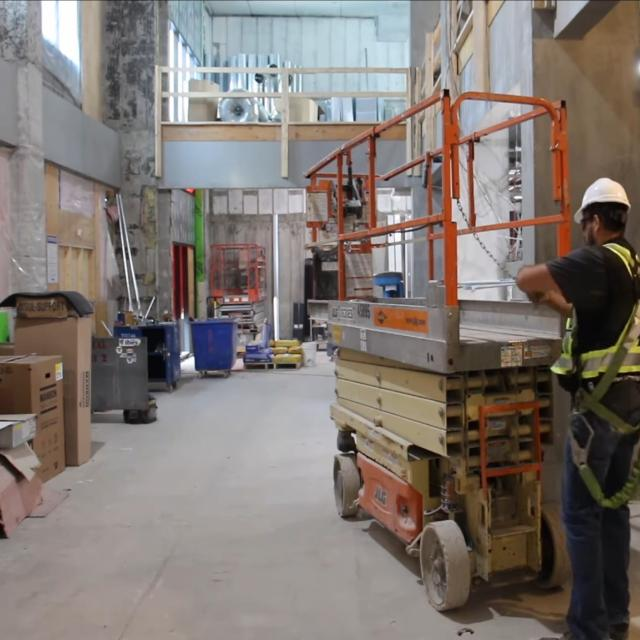2m above platform: (291, 92, 568, 607)
Belt: (553, 250, 640, 384)
worker: (529, 180, 640, 640)
